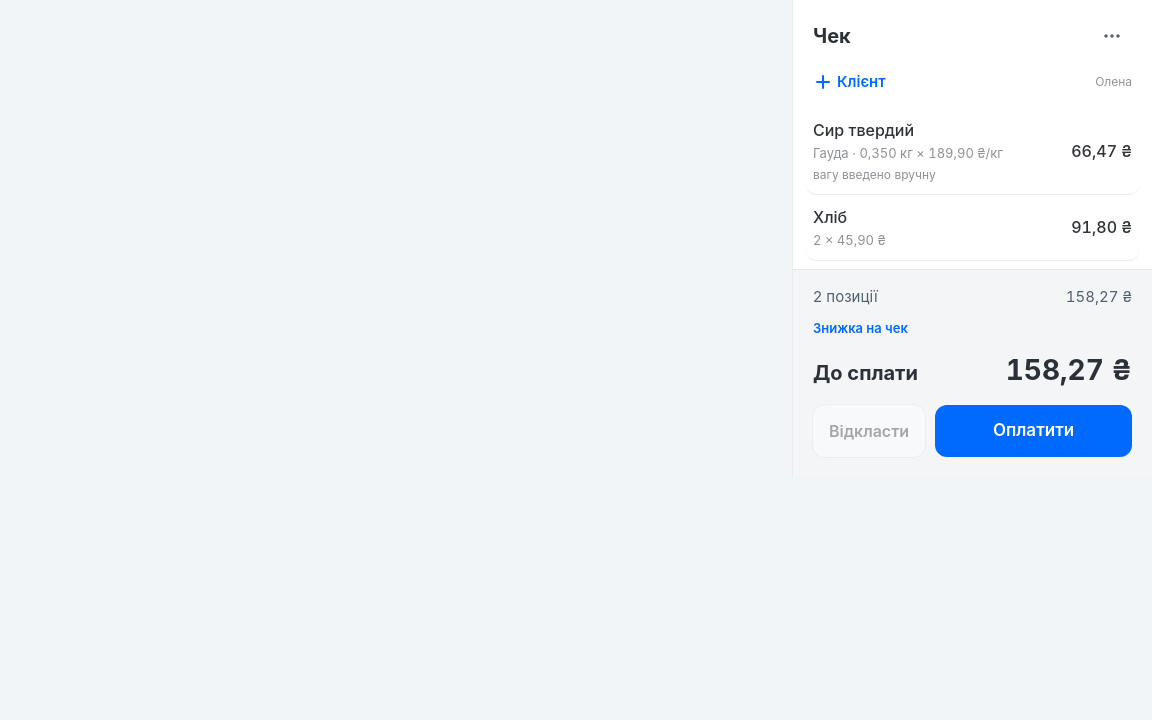
SaleSidebar with a weighed line › changes a weight on the pad instead of «+1 г»
Click the text "Сир твердий". click: (864, 130)
box: [813, 120, 914, 140]
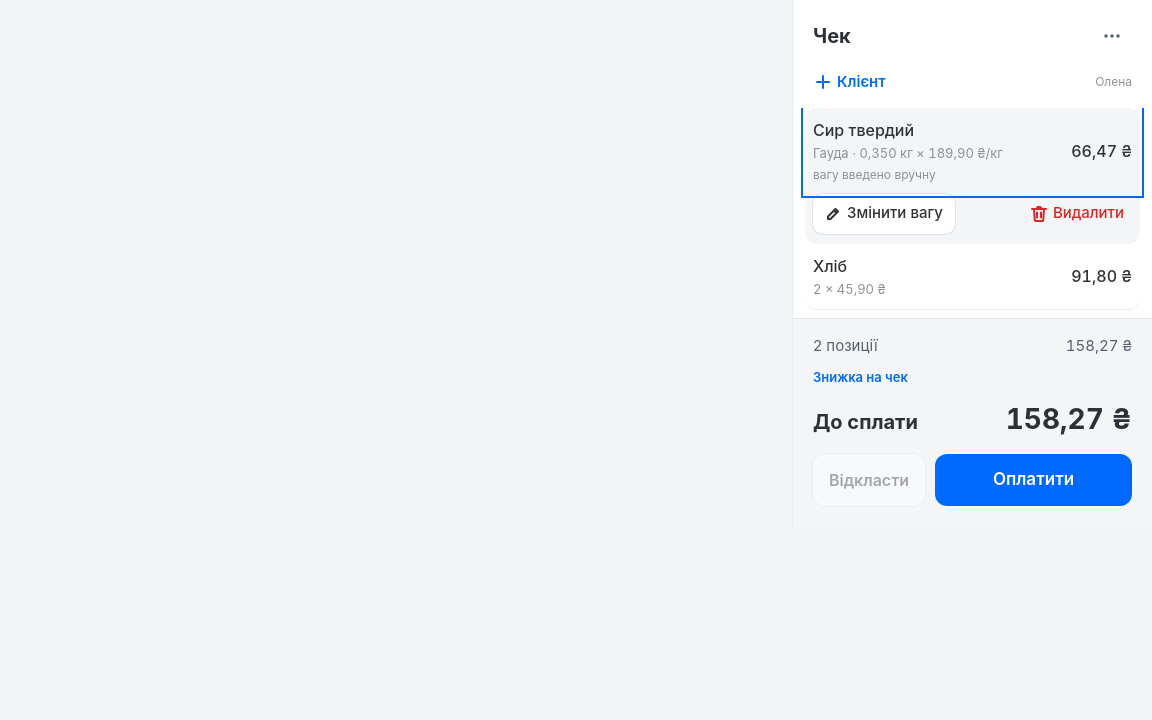
Click the button with test id "cart-line-reweigh". click: (884, 214)
box: [813, 194, 955, 234]
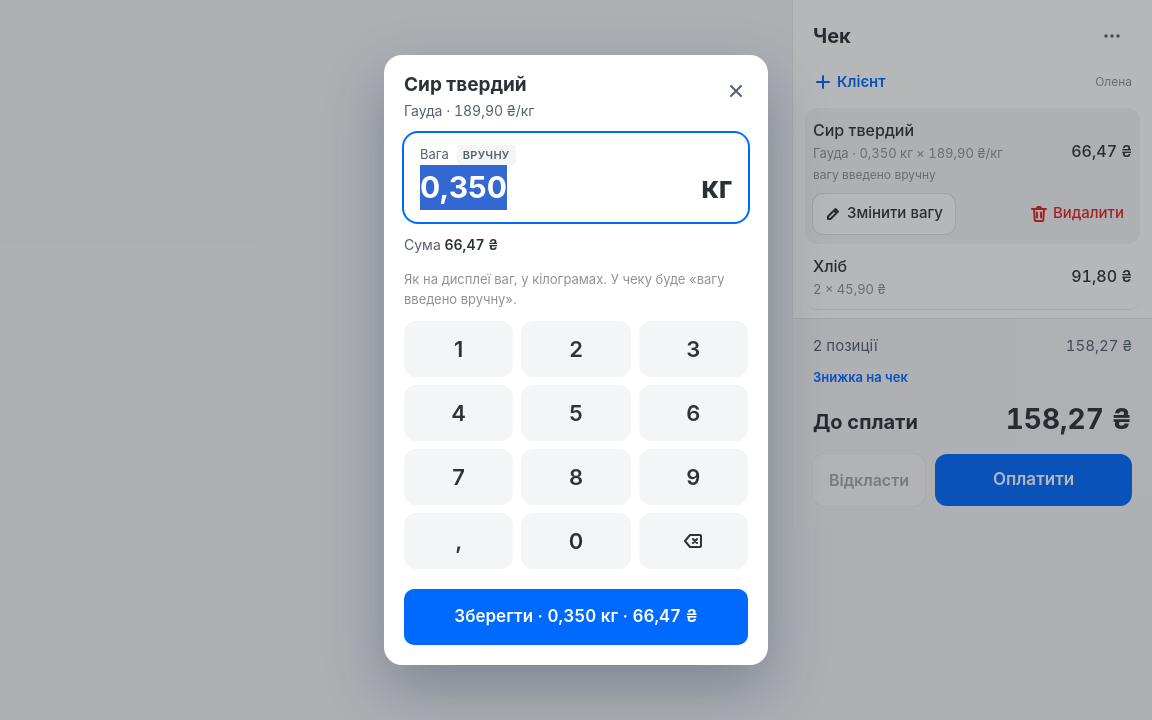
Now the field with test id "weight-pad-input" holds "0,350", box [420, 165, 695, 210]
Click the button "0". click: (576, 541)
box: [521, 513, 631, 569]
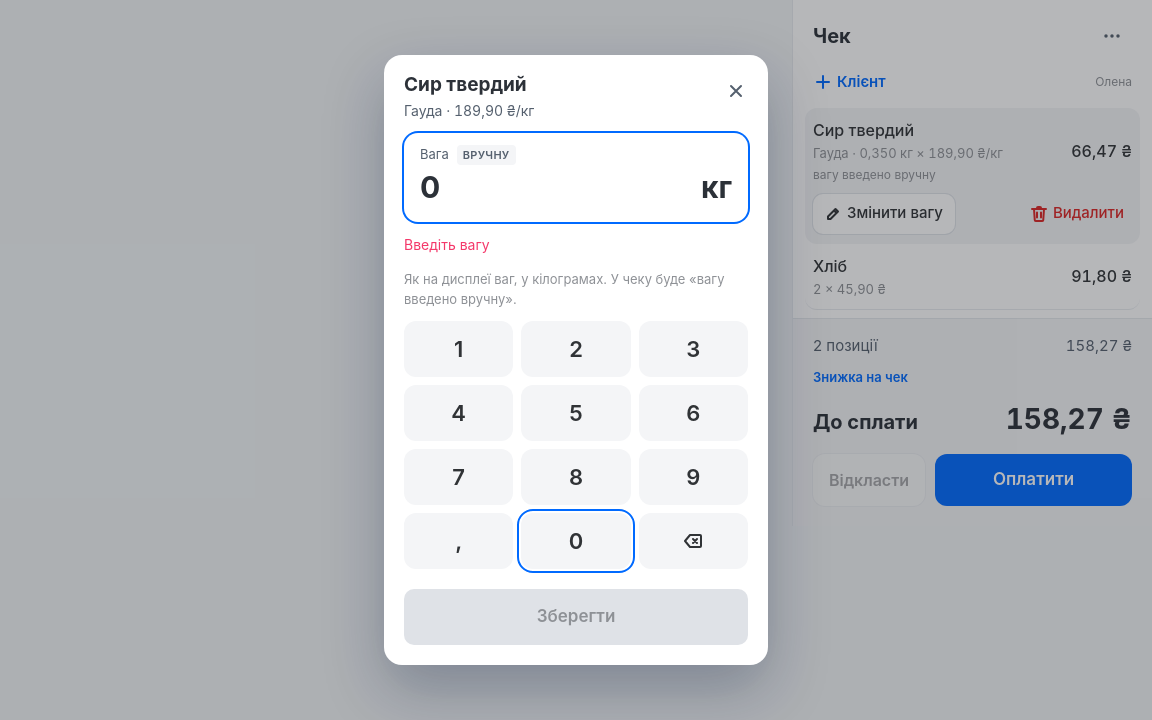
Click the button ",". click: (459, 541)
box: [404, 513, 513, 569]
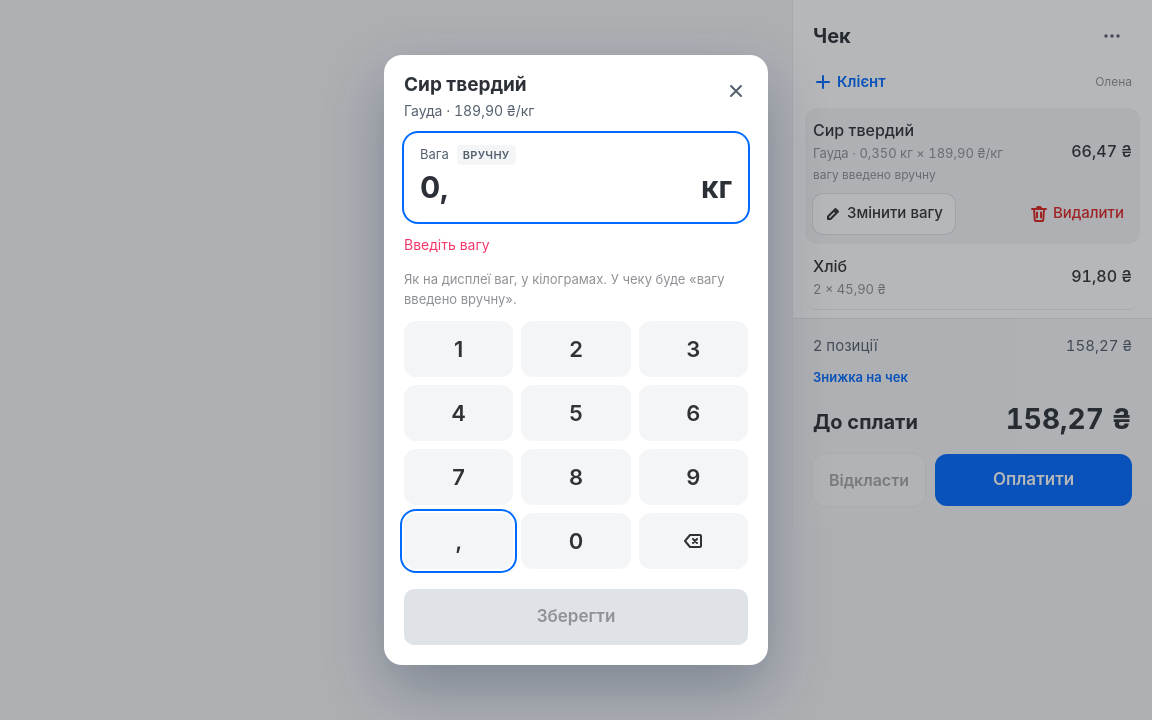
Click the button "5". click: (576, 413)
box: [521, 385, 631, 441]
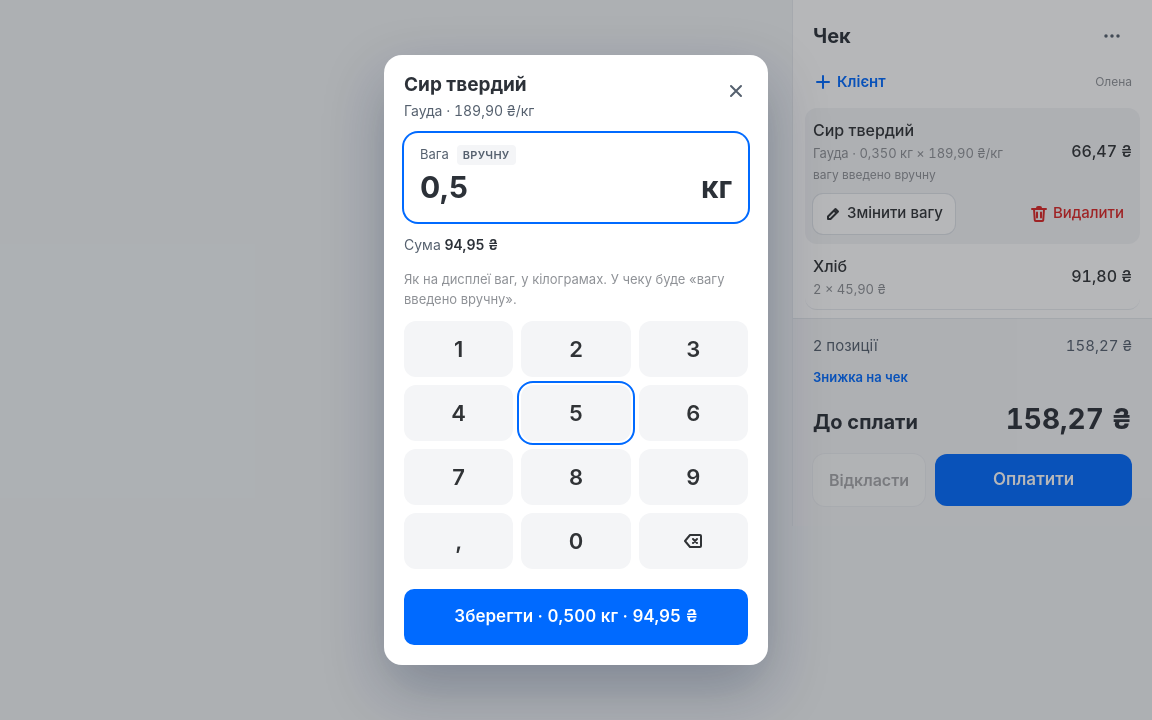
Click the button with test id "weight-pad-confirm". click: (576, 617)
box: [404, 589, 748, 645]
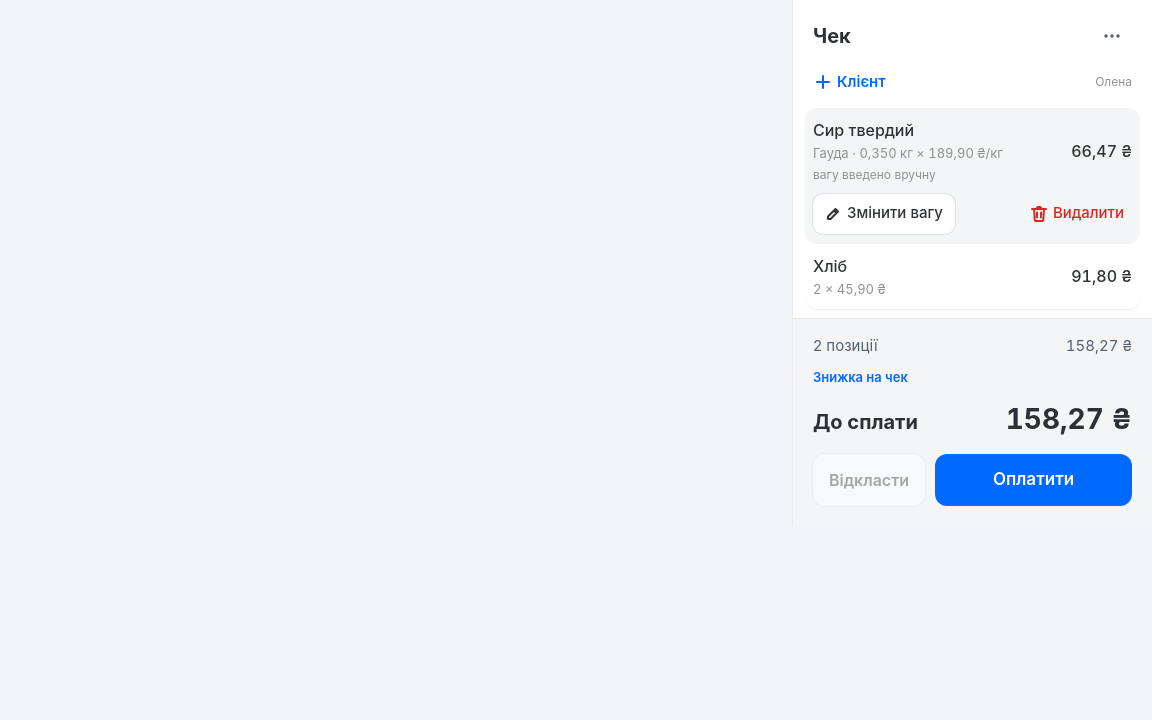
Now the dialog with test id "weight-pad" is gone
